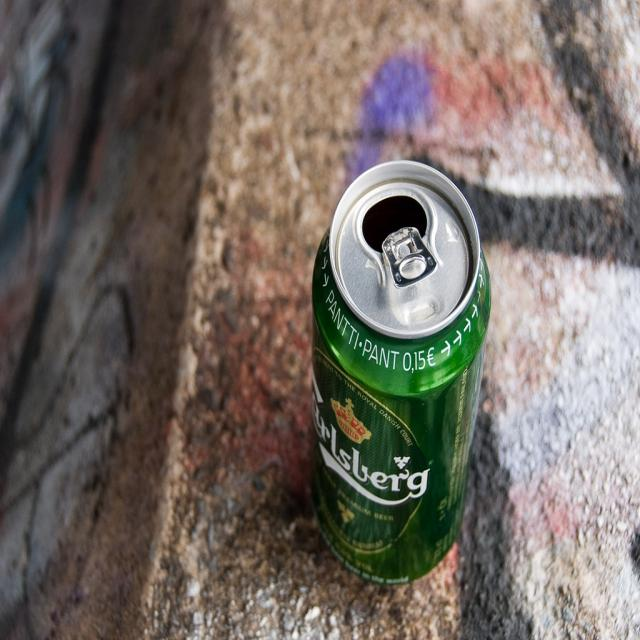carlsberg: (307, 349, 431, 556)
